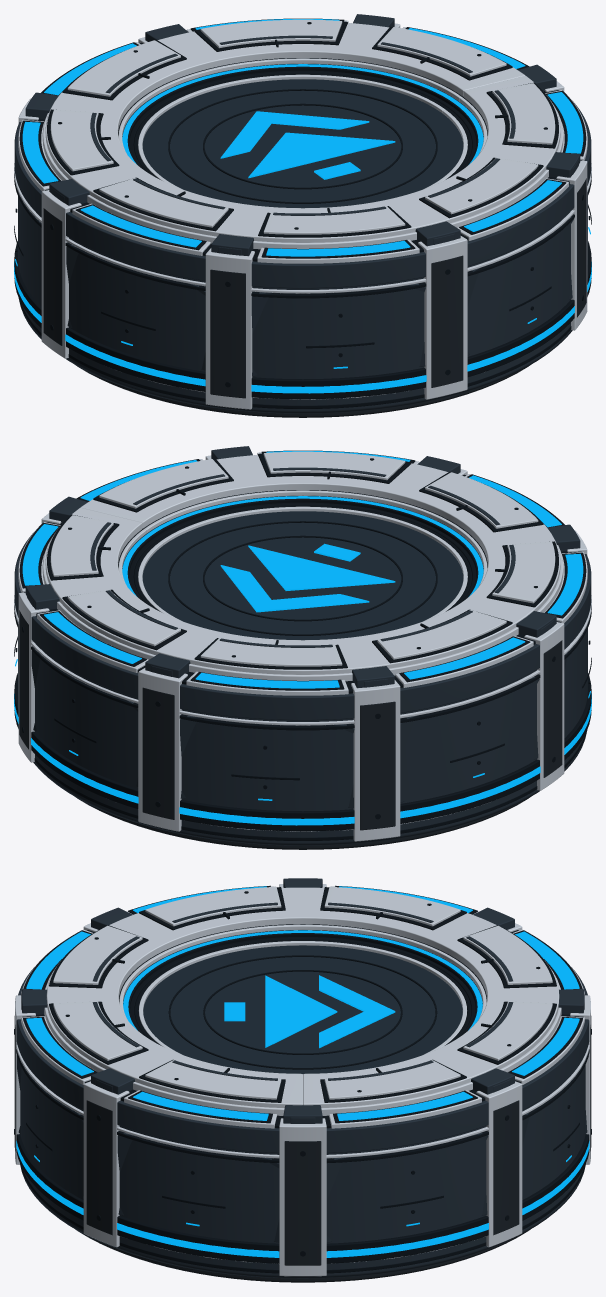
The model's file is Toppler.glb.
3 renders of one model, top to bottom at view 1: azimuth 30°, elevation 25°; view 2: azimuth 150°, elevation 25°; view 3: azimuth 270°, elevation 25°, orthographic.
Parts seen in each view (by area): view 1: SM_Puck_Toppler; view 2: SM_Puck_Toppler; view 3: SM_Puck_Toppler.
Part boxes in pixels (x1,y1,x2,y2): SM_Puck_Toppler: [14, 14, 591, 417]; SM_Puck_Toppler: [14, 446, 591, 849]; SM_Puck_Toppler: [14, 878, 591, 1282].
Bounding box in the file's own units: 0.9029 × 0.3066 × 0.9029.
